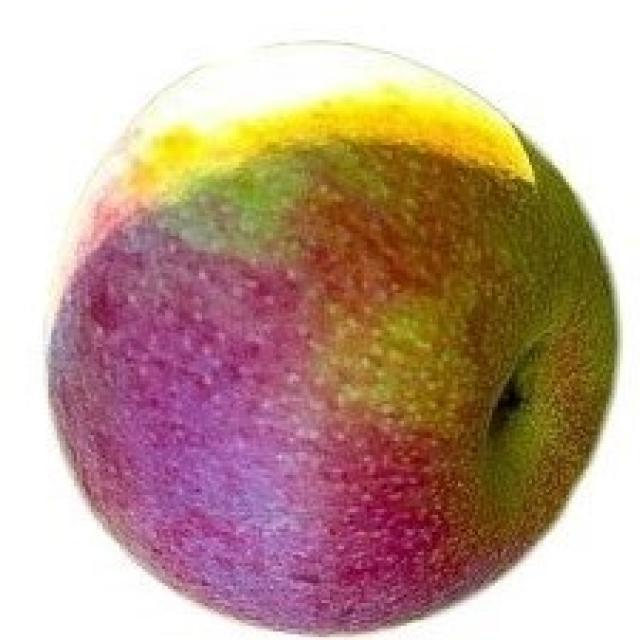75-_ripeness: (55, 36, 620, 628)
